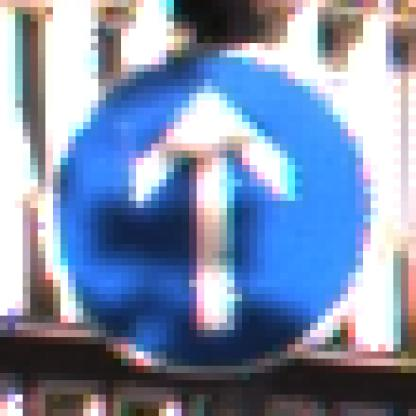AheadOnly: (47, 44, 380, 381)
